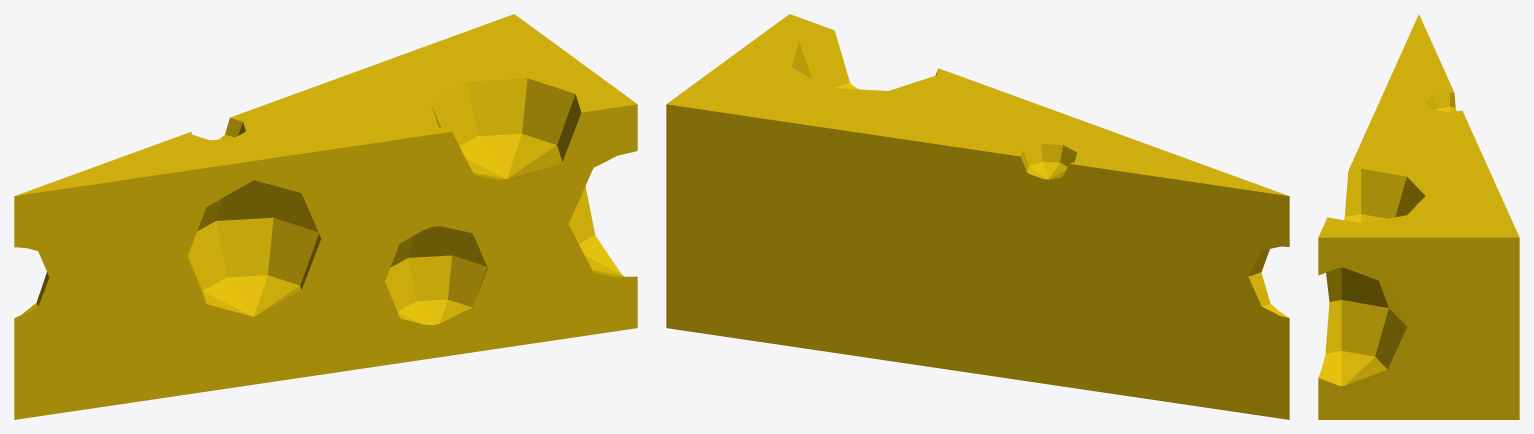
File: v2_cheese.fbx
3 views of the same model, side by side, from view 1: azimuth 30°, elevation 25°; view 2: azimuth 150°, elevation 25°; view 3: azimuth 270°, elevation 25° (orthographic). The views are drawn at different scales.
Parts seen in each view (by area): view 1: 立方体; view 2: 立方体; view 3: 立方体.
Boxes of the visible parts, x1,y1,x2,y2 form: 立方体: [14, 14, 637, 419]; 立方体: [666, 14, 1289, 419]; 立方体: [1318, 14, 1519, 419].
Bounding box in the file's own units: 311 × 118 × 118.
